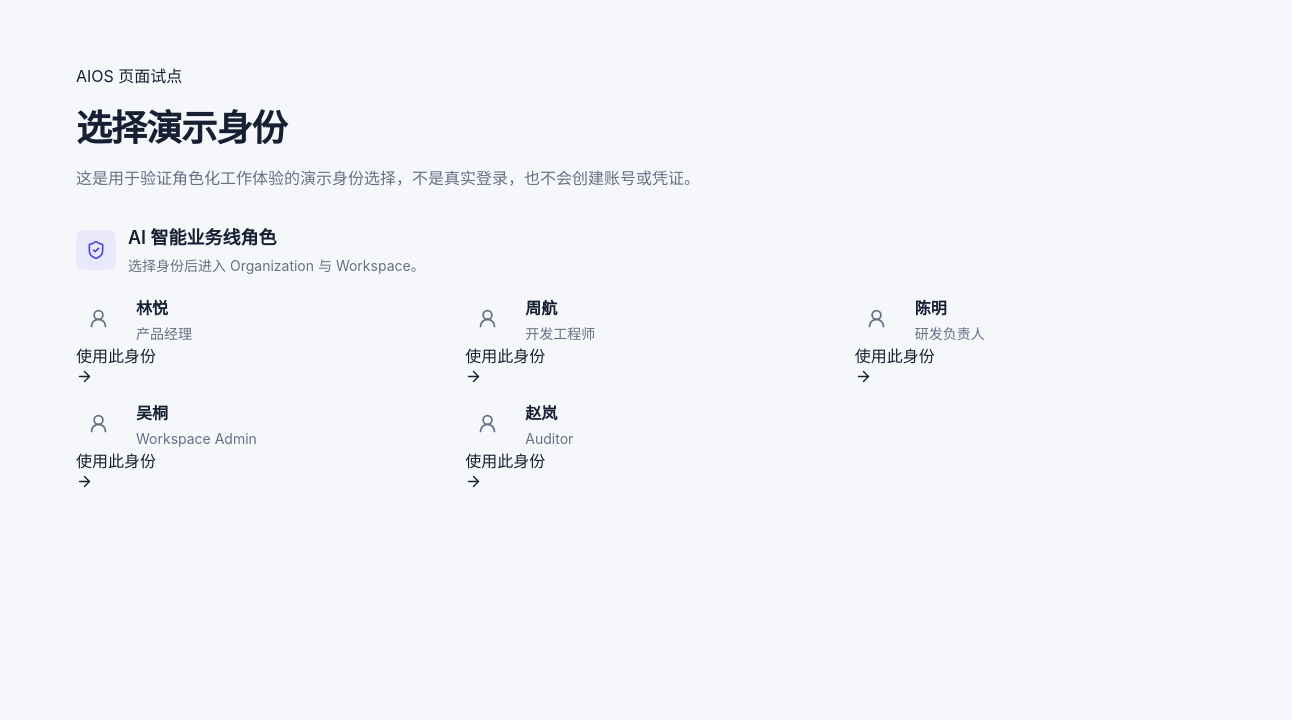
Test: selects the identity before navigating to organizations
Click the button with aria-label "使用 陈明（研发负责人）身份" at (895, 364), box x1=855 y1=344 x2=935 y2=385
(page scrolled)
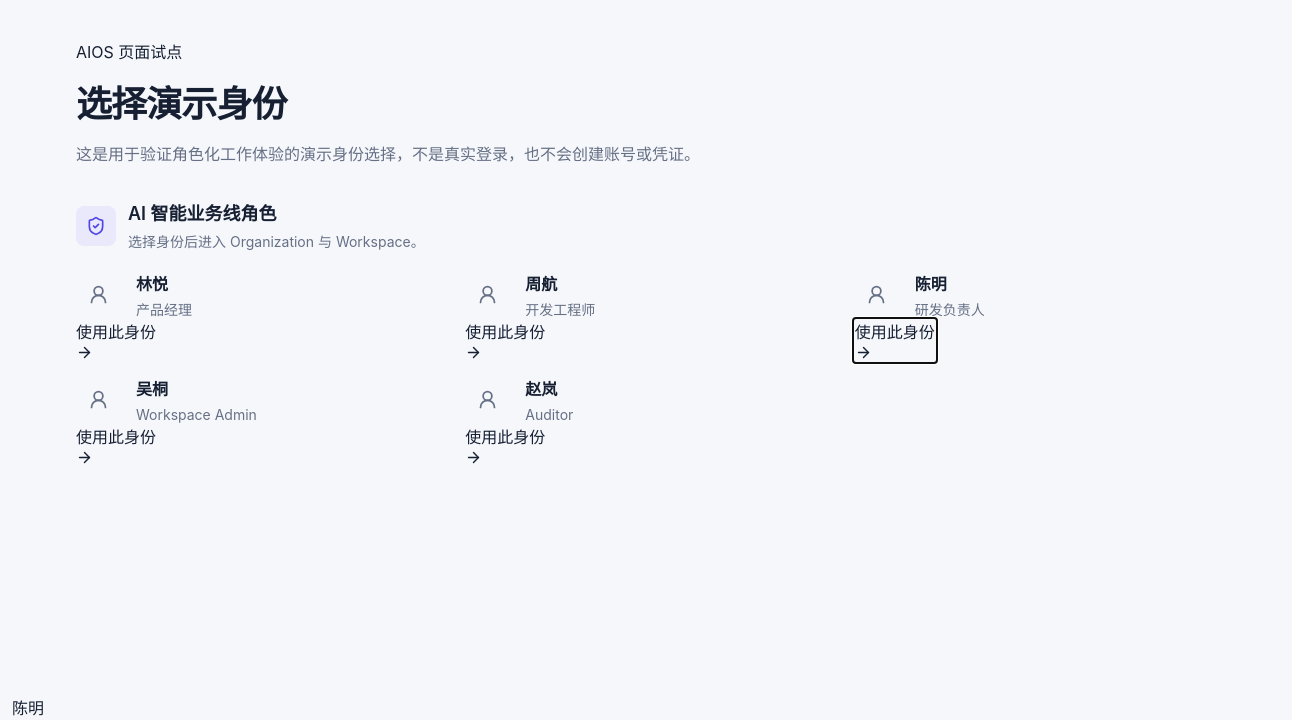
Check: the text named "当前演示身份" reads "陈明", box x1=12 y1=698 x2=44 y2=718
